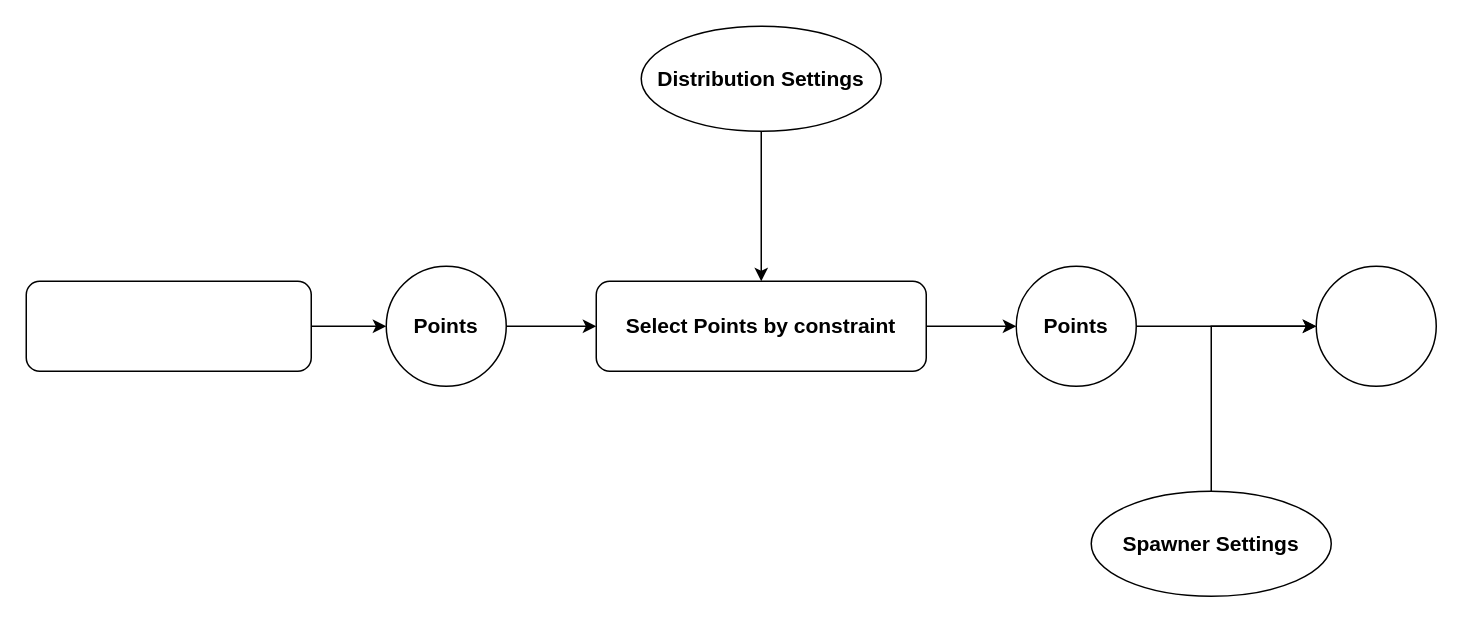
The diagram is 1463 pixels wide and 623 high, and some of its shapes have lost their labels. Each missing label, with the box of its shape:
PCG Results: (1315, 265, 1436, 386)
Sample from somethings: (25, 280, 311, 371)
